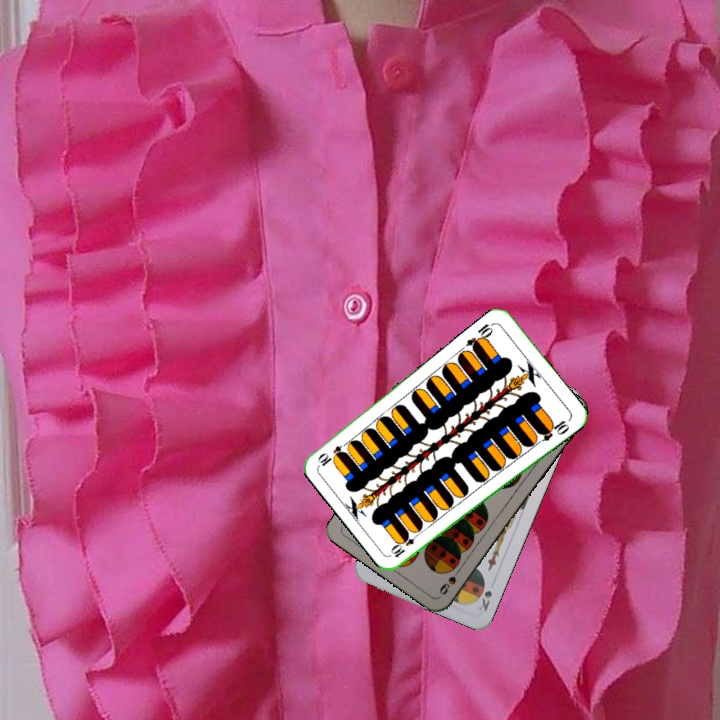E10: (462, 318, 497, 353), (387, 527, 423, 560)
S9: (435, 563, 464, 598)
SK: (474, 586, 495, 614)
